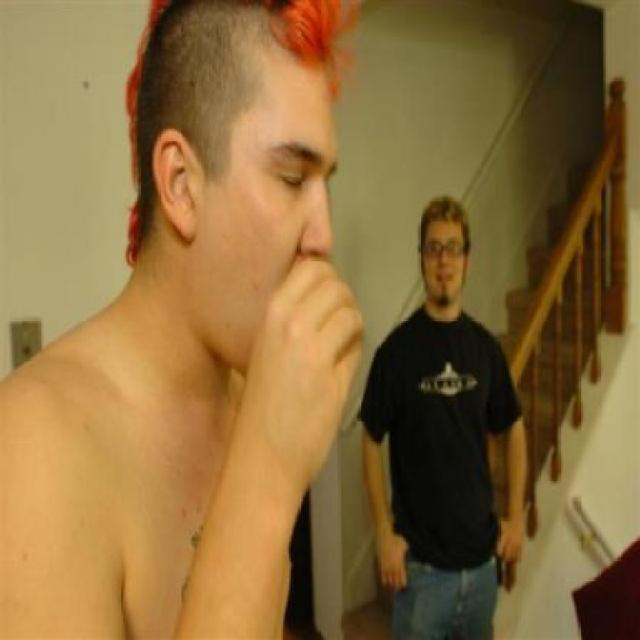stair: (340, 154, 611, 638)
